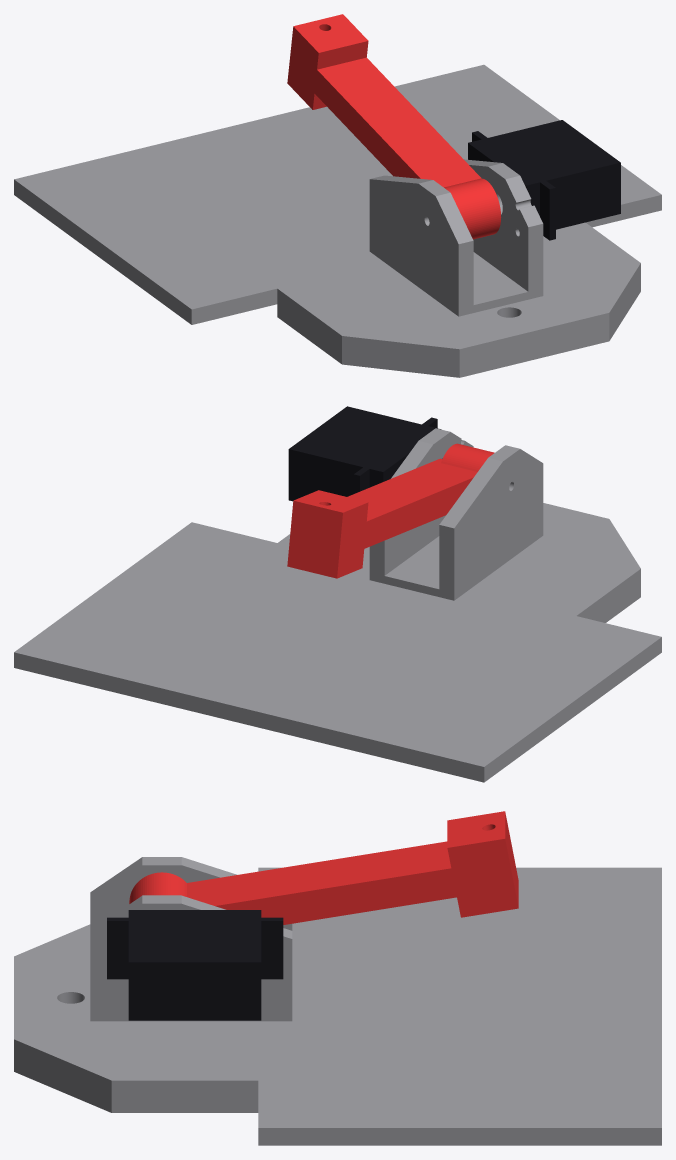
3 views of the same model, one above another, from view 1: azimuth 30°, elevation 25°; view 2: azimuth 150°, elevation 25°; view 3: azimuth 270°, elevation 25° (orthographic). The views are drawn at different scales.
Visible parts, largest first — view 1: TP-04_0, TP-04_1, TP-04_2; view 2: TP-04_0, TP-04_1, TP-04_2; view 3: TP-04_0, TP-04_1, TP-04_2.
Part boxes in pixels (x1,y1,x2,y2): TP-04_0: (14, 64, 661, 377); TP-04_1: (287, 14, 501, 239); TP-04_2: (468, 120, 620, 240); TP-04_0: (14, 428, 661, 782); TP-04_1: (287, 443, 494, 578); TP-04_2: (288, 406, 441, 501); TP-04_0: (14, 857, 661, 1145); TP-04_1: (129, 811, 518, 924); TP-04_2: (107, 910, 283, 1020).
Bounding box in the file's own units: 189 × 69.54 × 199.
